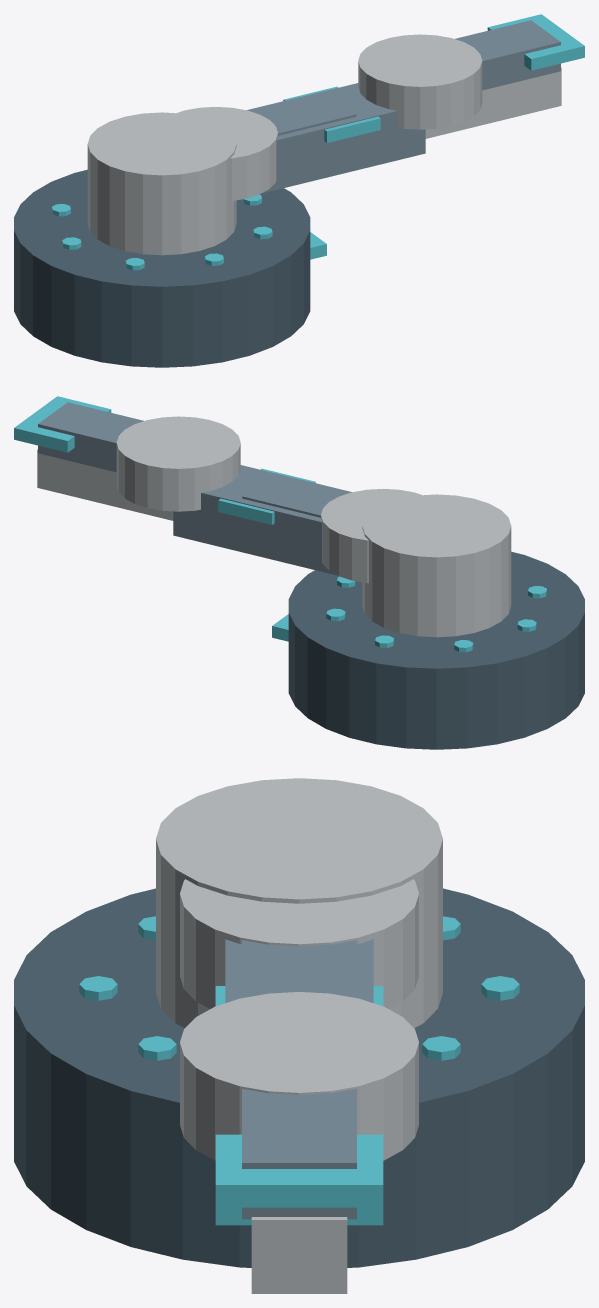
Rendered from 08_L78_MultiAxisVacuumTransferRobot.glb.
3 views of the same model, one above another, from view 1: azimuth 30°, elevation 25°; view 2: azimuth 150°, elevation 25°; view 3: azimuth 270°, elevation 25° (orthographic). The views are drawn at different scales.
Visible parts, largest first — view 1: MultiAxisVacuumTransferRobot_Node_0000, MultiAxisVacuumTransferRobot_Node_0001, MultiAxisVacuumTransferRobot_Node_0018, MultiAxisVacuumTransferRobot_Node_0002, MultiAxisVacuumTransferRobot_Node_0015, MultiAxisVacuumTransferRobot_Node_0019, MultiAxisVacuumTransferRobot_Node_0003, MultiAxisVacuumTransferRobot_Node_0016, MultiAxisVacuumTransferRobot_Node_0020, MultiAxisVacuumTransferRobot_Node_0017; view 2: MultiAxisVacuumTransferRobot_Node_0000, MultiAxisVacuumTransferRobot_Node_0001, MultiAxisVacuumTransferRobot_Node_0018, MultiAxisVacuumTransferRobot_Node_0002, MultiAxisVacuumTransferRobot_Node_0015, MultiAxisVacuumTransferRobot_Node_0019, MultiAxisVacuumTransferRobot_Node_0003, MultiAxisVacuumTransferRobot_Node_0016, MultiAxisVacuumTransferRobot_Node_0020, MultiAxisVacuumTransferRobot_Node_0017; view 3: MultiAxisVacuumTransferRobot_Node_0000, MultiAxisVacuumTransferRobot_Node_0001, MultiAxisVacuumTransferRobot_Node_0018, MultiAxisVacuumTransferRobot_Node_0015, MultiAxisVacuumTransferRobot_Node_0019, MultiAxisVacuumTransferRobot_Node_0020, MultiAxisVacuumTransferRobot_Node_0003, MultiAxisVacuumTransferRobot_Node_0016, MultiAxisVacuumTransferRobot_Node_0002, MultiAxisVacuumTransferRobot_Node_0014, MultiAxisVacuumTransferRobot_Node_0005, MultiAxisVacuumTransferRobot_Node_0011 (+2 smaller).
Boxes of the visible parts, x1,y1,x2,y2 form: MultiAxisVacuumTransferRobot_Node_0000: [14, 169, 310, 367]; MultiAxisVacuumTransferRobot_Node_0001: [87, 112, 236, 255]; MultiAxisVacuumTransferRobot_Node_0018: [358, 34, 482, 129]; MultiAxisVacuumTransferRobot_Node_0002: [247, 83, 425, 193]; MultiAxisVacuumTransferRobot_Node_0015: [176, 107, 277, 201]; MultiAxisVacuumTransferRobot_Node_0019: [455, 20, 560, 90]; MultiAxisVacuumTransferRobot_Node_0003: [425, 67, 561, 138]; MultiAxisVacuumTransferRobot_Node_0016: [250, 92, 356, 135]; MultiAxisVacuumTransferRobot_Node_0020: [487, 14, 584, 70]; MultiAxisVacuumTransferRobot_Node_0017: [283, 86, 380, 142]; MultiAxisVacuumTransferRobot_Node_0000: [288, 551, 584, 749]; MultiAxisVacuumTransferRobot_Node_0001: [362, 494, 511, 637]; MultiAxisVacuumTransferRobot_Node_0018: [116, 416, 240, 511]; MultiAxisVacuumTransferRobot_Node_0002: [173, 465, 351, 575]; MultiAxisVacuumTransferRobot_Node_0015: [321, 489, 422, 583]; MultiAxisVacuumTransferRobot_Node_0019: [38, 402, 143, 472]; MultiAxisVacuumTransferRobot_Node_0003: [37, 449, 173, 520]; MultiAxisVacuumTransferRobot_Node_0016: [242, 474, 348, 517]; MultiAxisVacuumTransferRobot_Node_0020: [14, 396, 111, 452]; MultiAxisVacuumTransferRobot_Node_0017: [218, 468, 315, 524]; MultiAxisVacuumTransferRobot_Node_0000: [14, 888, 584, 1267]; MultiAxisVacuumTransferRobot_Node_0001: [156, 778, 442, 1028]; MultiAxisVacuumTransferRobot_Node_0018: [180, 992, 418, 1160]; MultiAxisVacuumTransferRobot_Node_0015: [180, 879, 418, 1008]; MultiAxisVacuumTransferRobot_Node_0019: [242, 1089, 356, 1219]; MultiAxisVacuumTransferRobot_Node_0020: [215, 1134, 383, 1207]; MultiAxisVacuumTransferRobot_Node_0003: [251, 1217, 347, 1293]; MultiAxisVacuumTransferRobot_Node_0016: [242, 940, 356, 997]; MultiAxisVacuumTransferRobot_Node_0002: [225, 939, 373, 1002]; MultiAxisVacuumTransferRobot_Node_0014: [215, 1207, 383, 1225]; MultiAxisVacuumTransferRobot_Node_0005: [138, 1036, 176, 1060]; MultiAxisVacuumTransferRobot_Node_0011: [422, 1036, 460, 1060].
Bounding box in the file's own units: 2.47 × 0.805 × 1.19.
